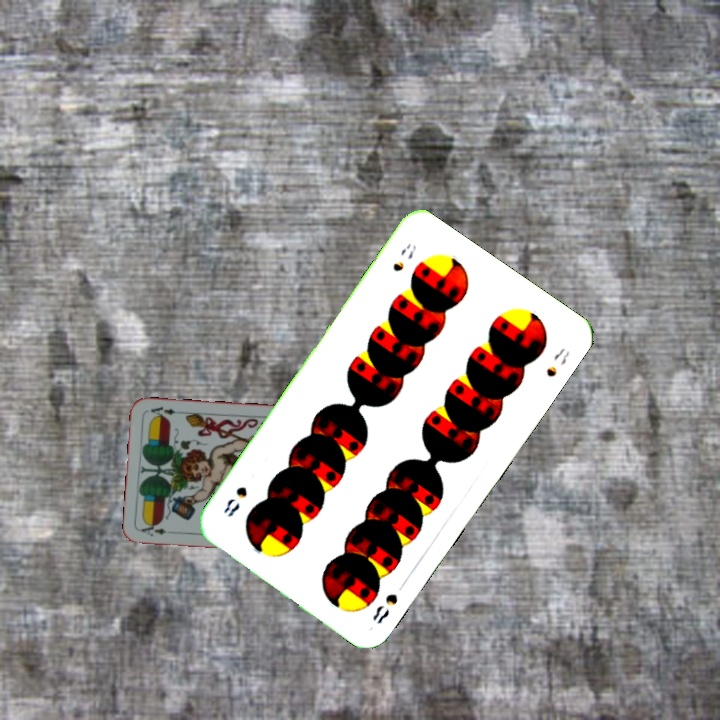EA: (137, 521, 168, 539)
S8: (368, 589, 400, 626), (389, 239, 420, 274)
